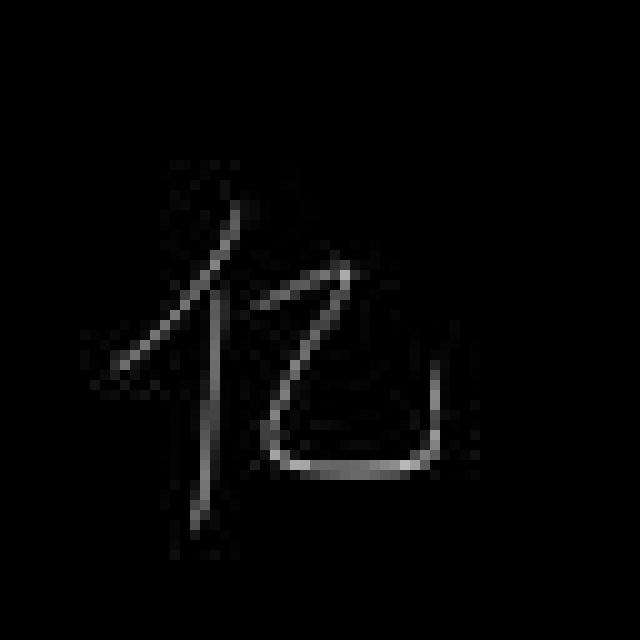100000 -a hundred thousand-: (106, 196, 456, 527)
